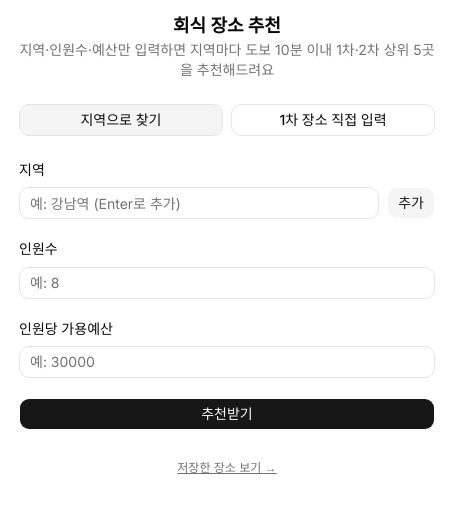
Scenario: RecommendForm › 추가된 지역 칩의 삭제 버튼을 누르면 제거된다
Type "동탄역" into the field labelled "지역".
click(199, 203); type("동탄역")  # box [19, 187, 379, 219]
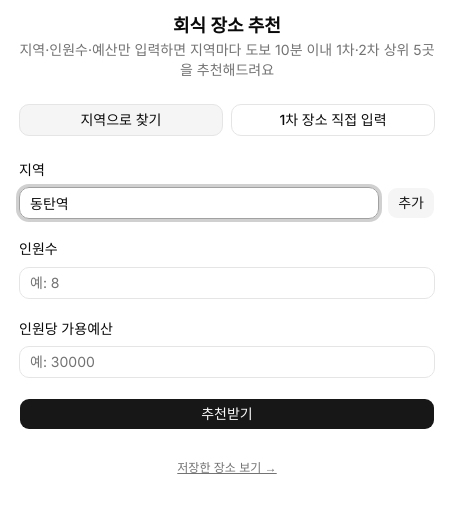
Press Enter
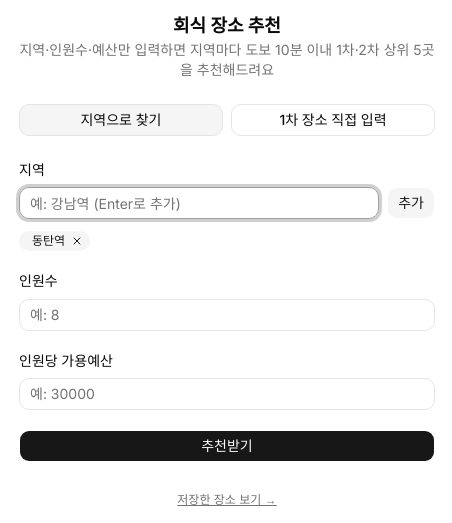
Click the button named "동탄역 삭제".
click(77, 241)  # box [69, 233, 85, 249]
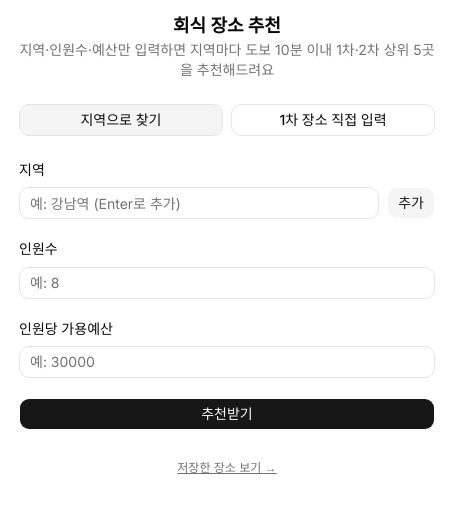
Now the text "동탄역" is gone
